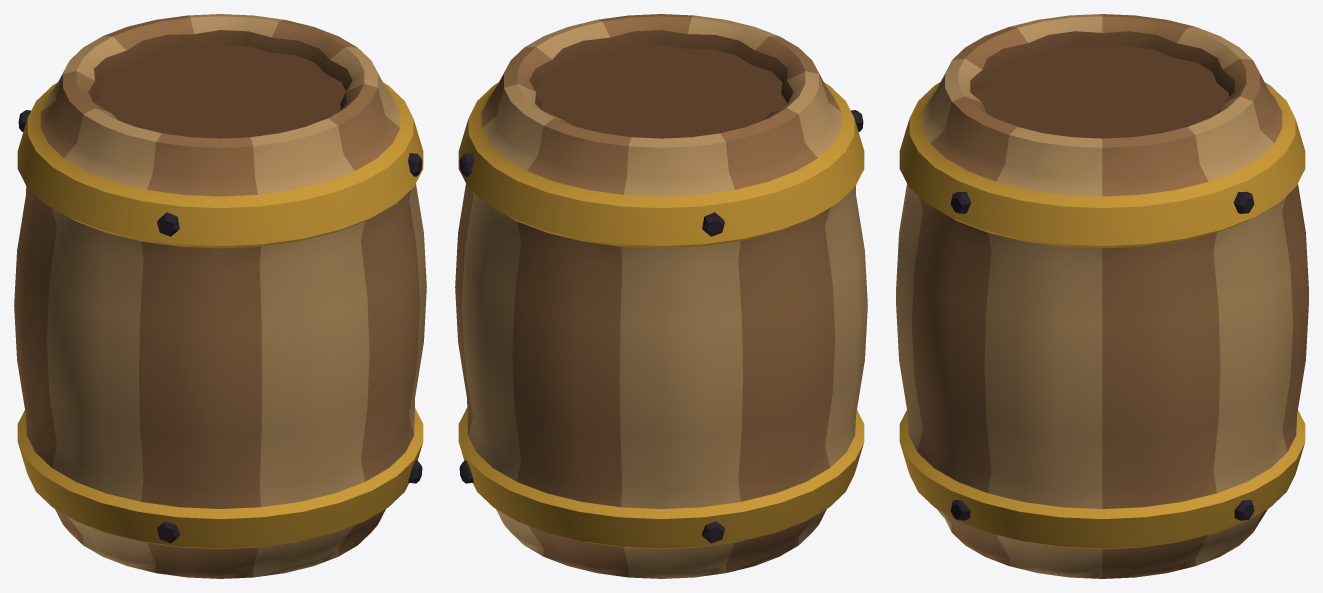
Rendered from Barrel_13.glb.
3 views of the same model, side by side, from view 1: azimuth 30°, elevation 25°; view 2: azimuth 150°, elevation 25°; view 3: azimuth 270°, elevation 25° (orthographic).
Visible parts, largest first — view 1: Barrel_13; view 2: Barrel_13; view 3: Barrel_13.
Boxes of the visible parts, box(x1,y1,x2,y2) form: Barrel_13: box(14, 14, 426, 578); Barrel_13: box(455, 14, 867, 578); Barrel_13: box(896, 14, 1308, 578).
Size of the model in its own units: 2.08 by 2.47 by 2.11.
